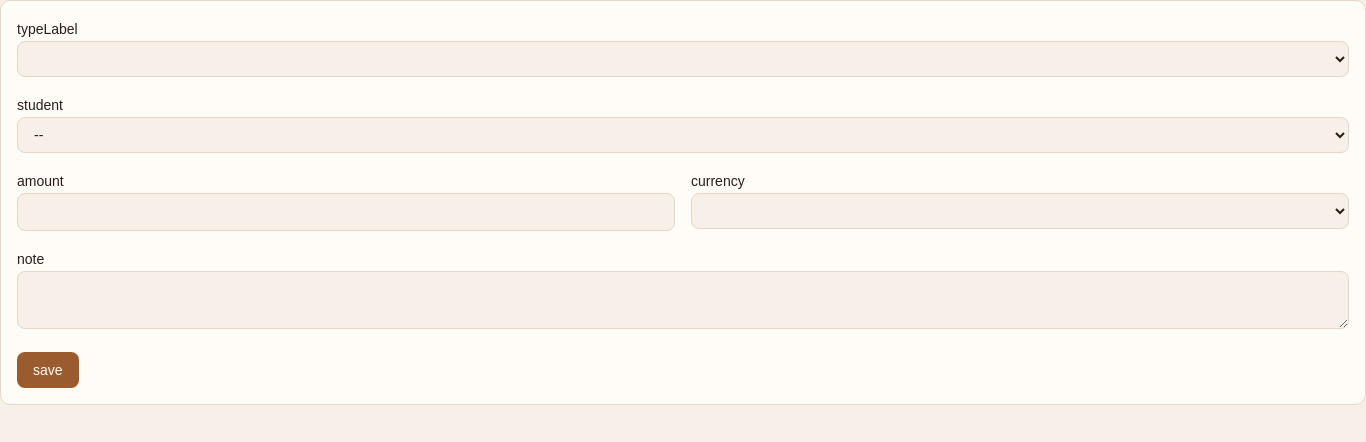
Test: SubscriptionForm › blocks submission with amountInvalid when amount cannot be parsed
The width and height of the screenshot is (1366, 442).
Select "Zaid" in the dropdown labelled "student". click: (683, 135)
box: [17,117,1349,153]
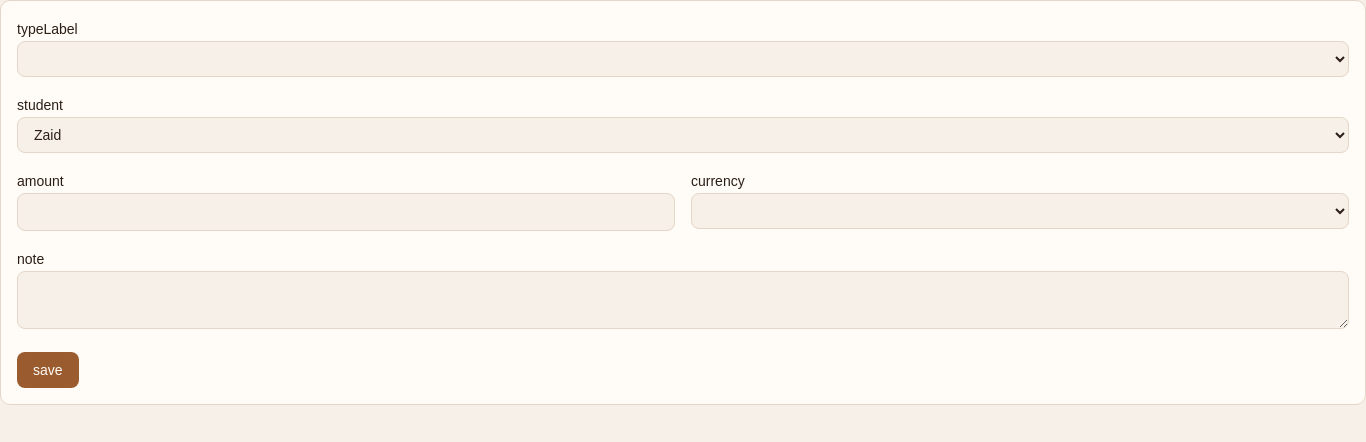
Type "invalid-amount" into the field labelled "amount". click: (346, 212)
box: [17,193,675,231]
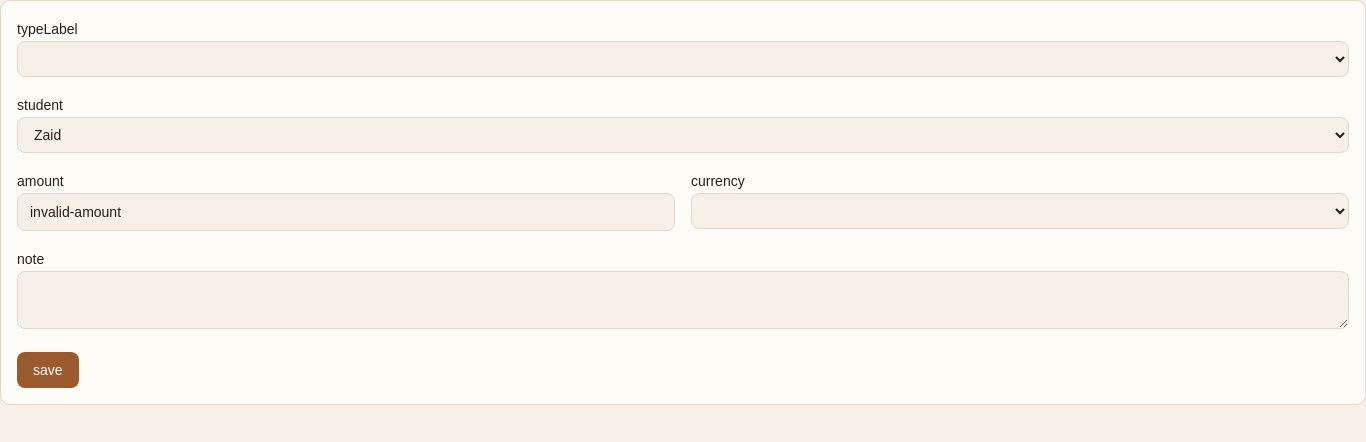
Click the button "save". click: click(48, 370)
box: [17,352,79,388]
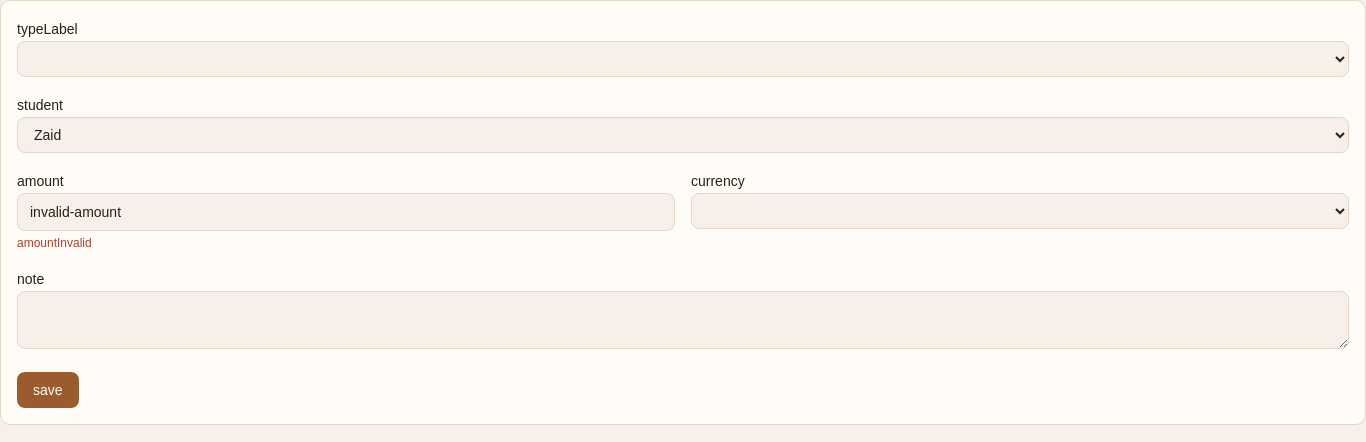
Check: the text "amountInvalid" is shown, box [17,236,92,250]
